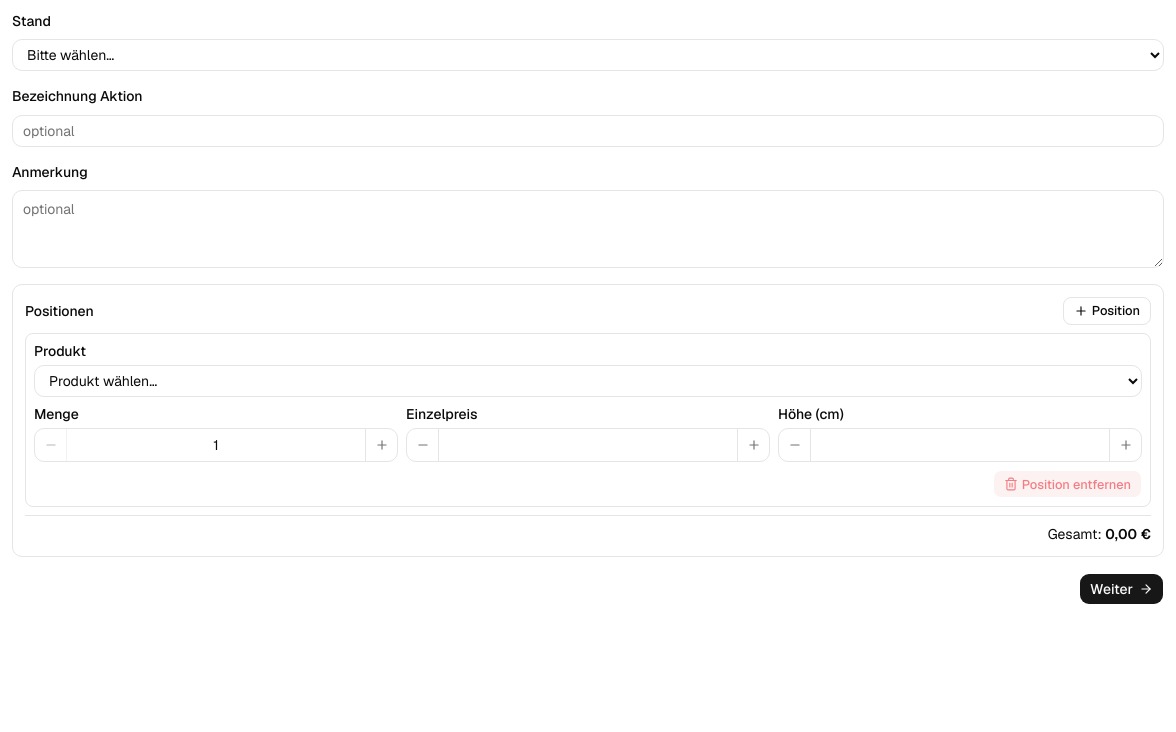
VerkaufForm › zeigt die Preisempfehlung und übernimmt sie in den Einzelpreis
Select "Baum Nordmanntanne – 45,00 €" in the dropdown labelled "Produkt": {"x": 588, "y": 381} top-left (34, 365), bottom-right (1142, 397)
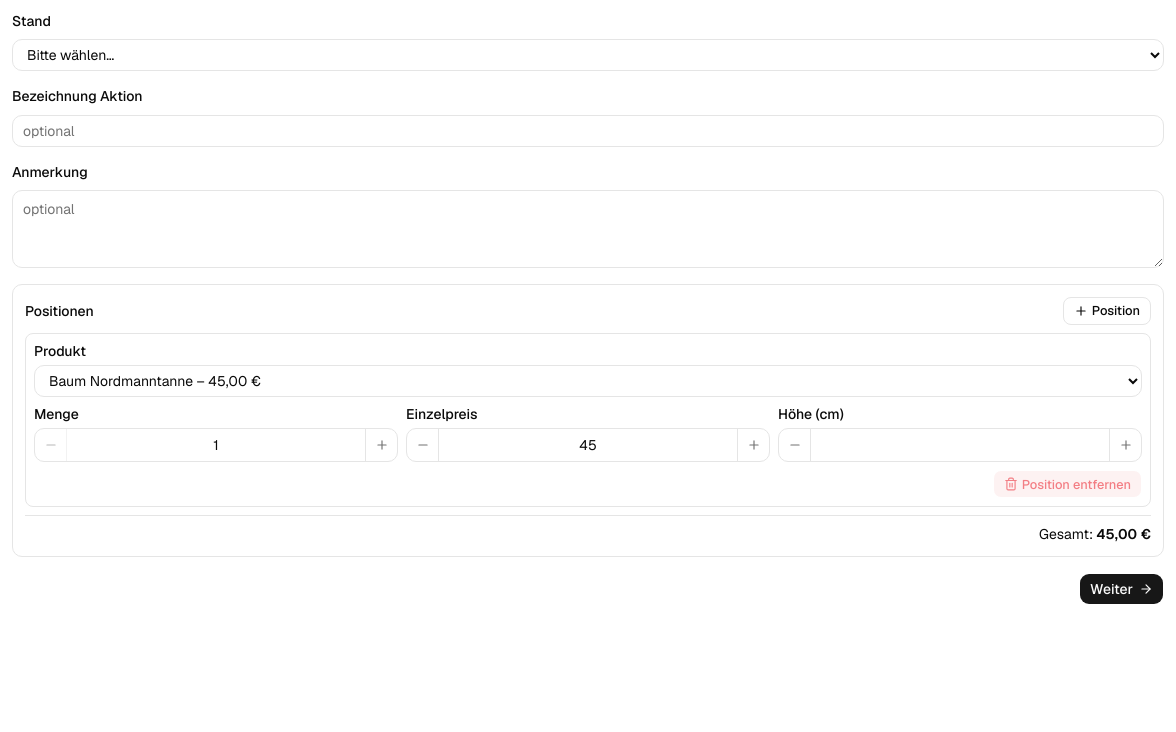
Result: the field labelled "Einzelpreis" holds "45" at top-left (439, 429), bottom-right (737, 461)
Note: Produkt ohne Empfehlung: Preis wird geleert, kein alter Wert bleibt hängen.
Select "Kreuz Kreuz Standard" in the dropdown labelled "Produkt": {"x": 588, "y": 381} top-left (34, 365), bottom-right (1142, 397)
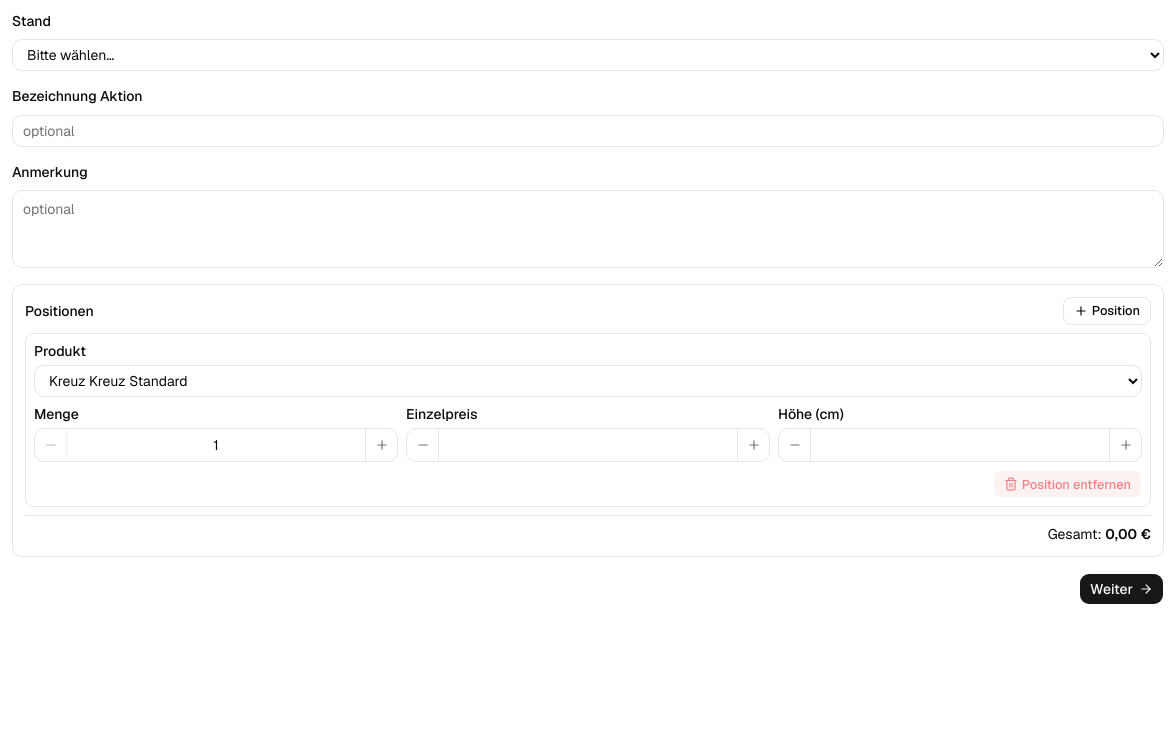
Result: the field labelled "Einzelpreis" is empty at top-left (439, 429), bottom-right (737, 461)
